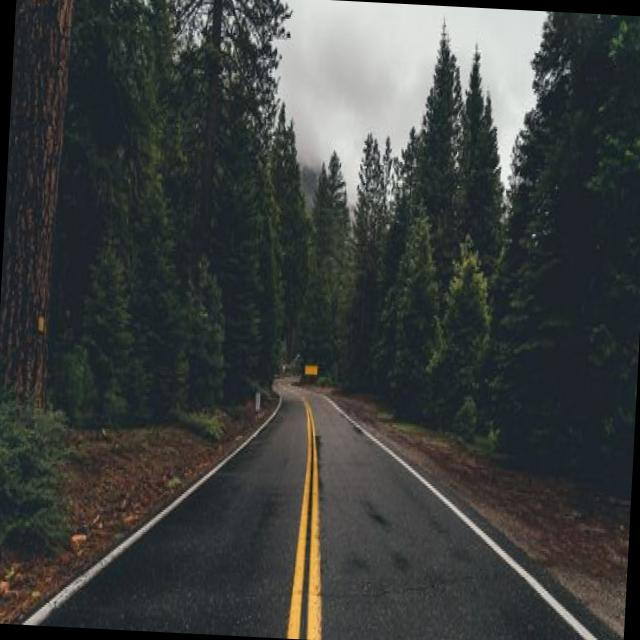asphalt: (19, 392, 615, 640)
